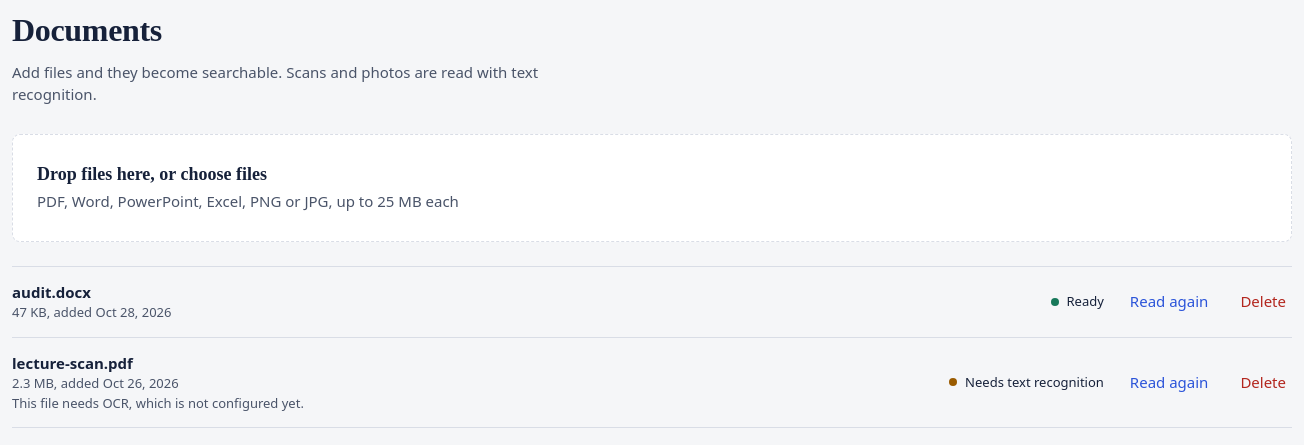
Test: Documents › asks before deleting, and Keep changes nothing
This screenshot has width=1304, height=445.
Click the button with aria-label "Delete audit.docx" at point(1263, 302), box 1234,286 -> 1292,317
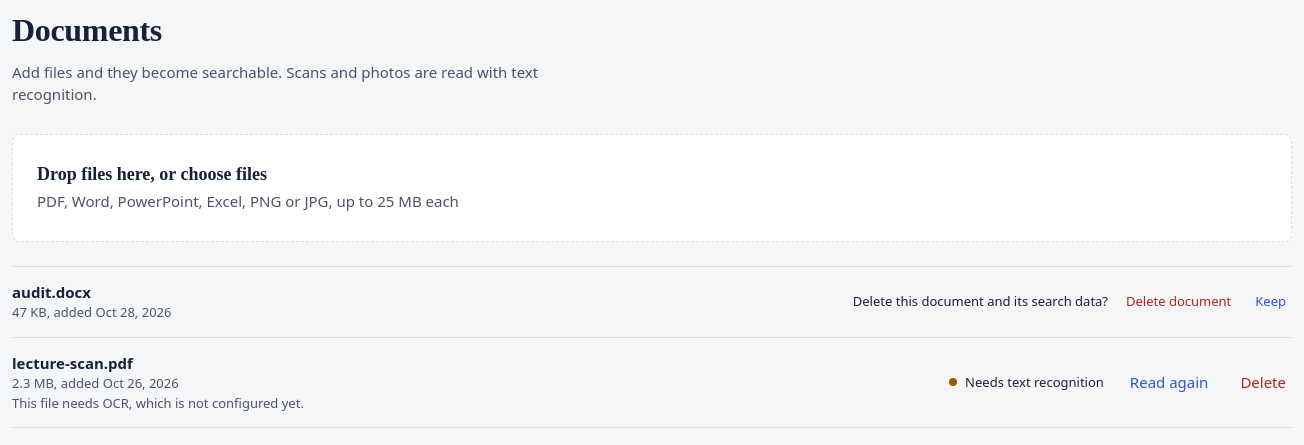
Now the text "Delete this document and its search data?" is shown, box 853,292 -> 1108,311
Click the button "Keep" at point(1271, 302), box 1249,288 -> 1292,315
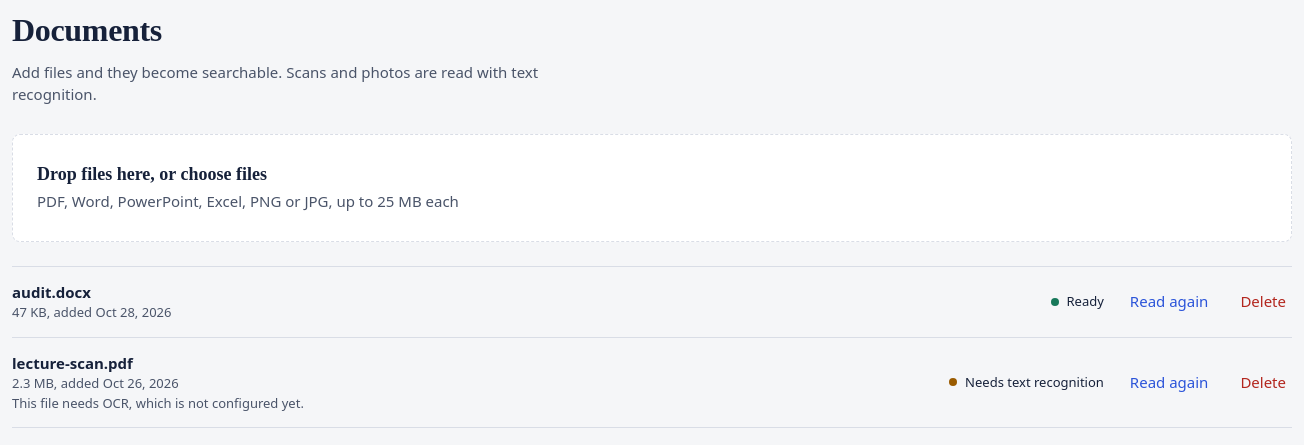
Now the text "Delete this document and its search data?" is gone
